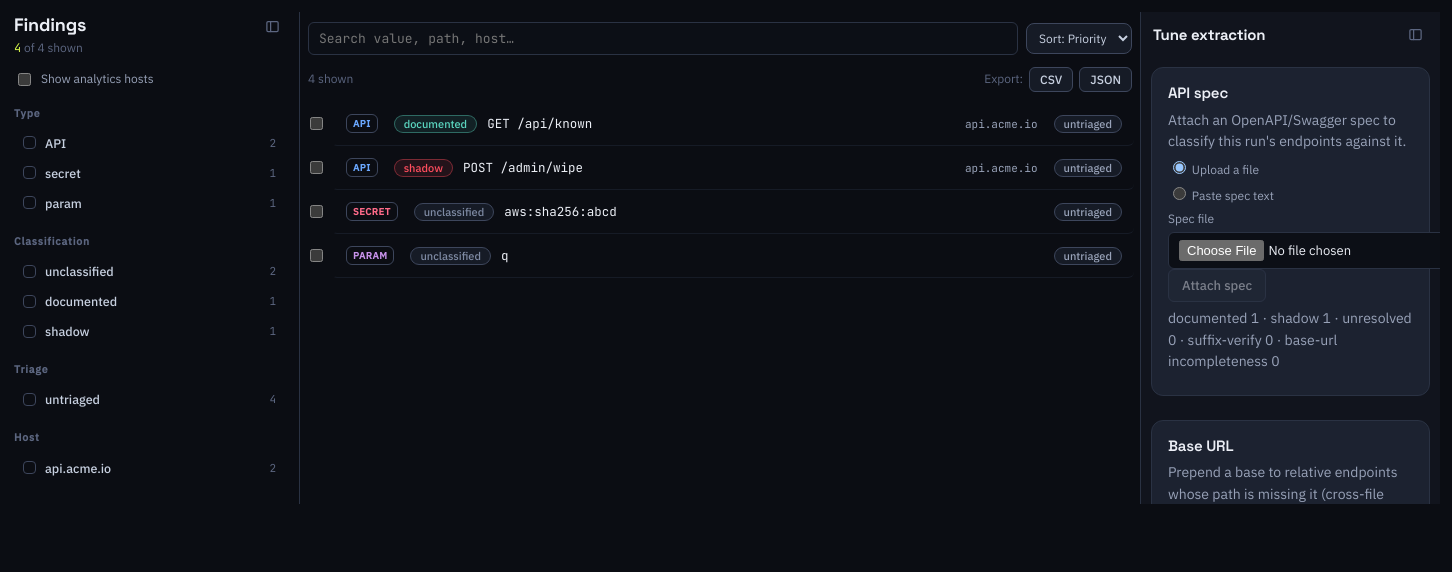
Scenario: FindingsPage › filters by a classification facet without a re-fetch
Expected: the text "GET /api/known" is shown, [487,115,592,132]
Expected: the text "POST /admin/wipe" is shown, [463,159,583,176]
Click the button "shadow 1": [67, 331] box [14,317,285,345]
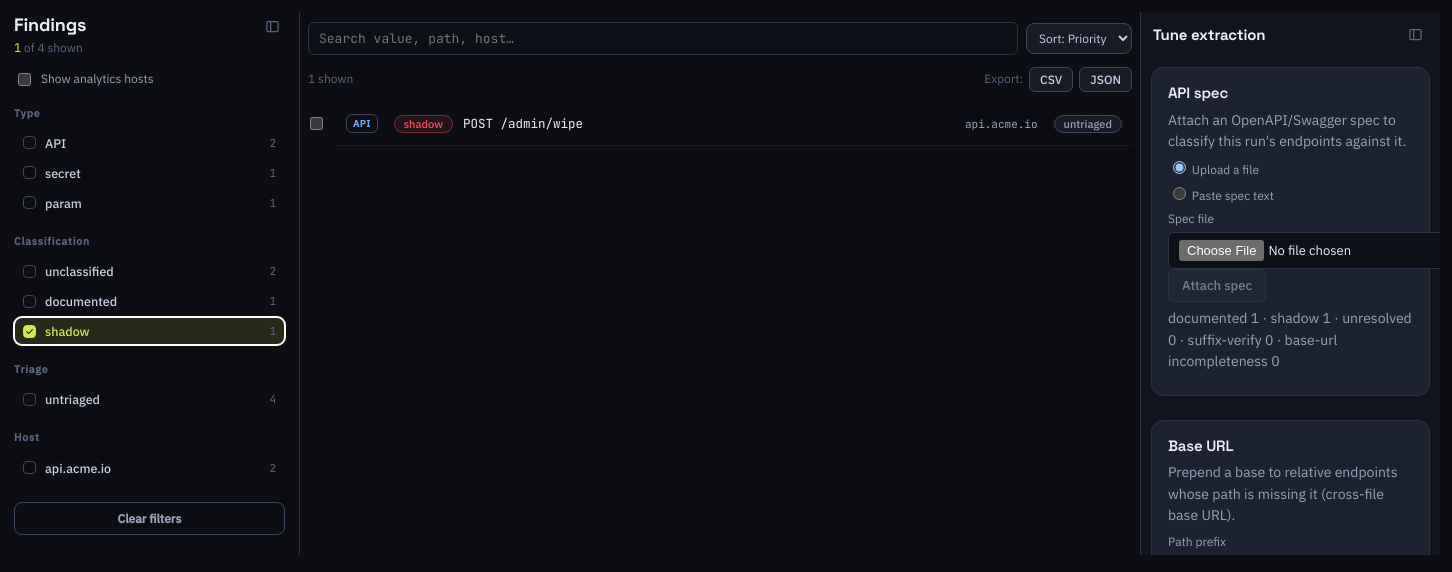
Expected: the button "GET /api/known" is gone
Expected: the button "aws:sha256:abcd" is gone
Expected: the element with class "fp-rail" shows "1 of 4 shown", [0,12,300,555]
